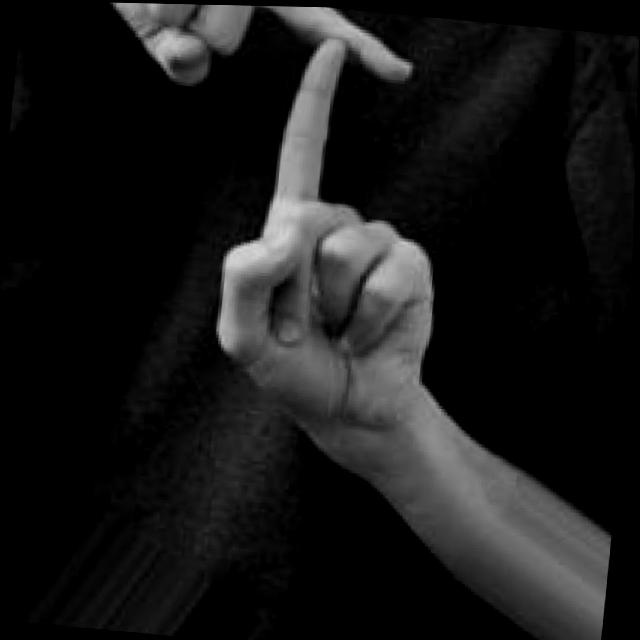T: (11, 1, 483, 453)
